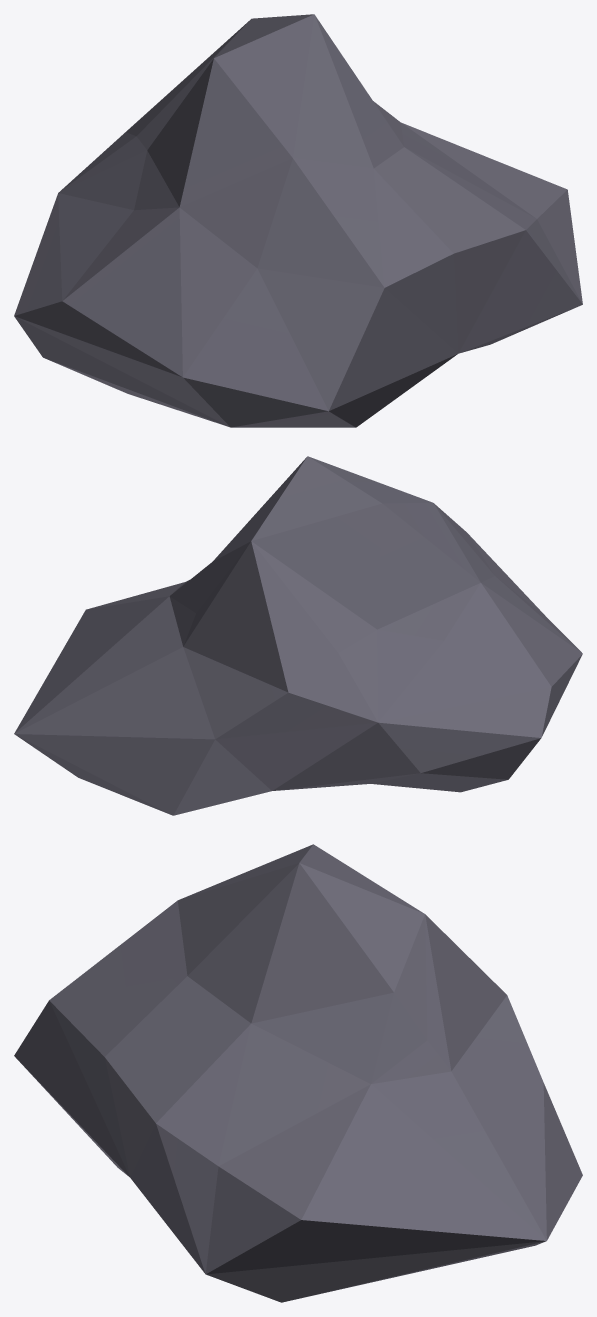
File: bigrock1.fbx
The picture shows the model from 3 angles, top to bottom: view 1: azimuth 30°, elevation 25°; view 2: azimuth 150°, elevation 25°; view 3: azimuth 270°, elevation 25°; orthographic projection. The views are drawn at different scales.
Visible parts, largest first — view 1: rock.005; view 2: rock.005; view 3: rock.005.
Part boxes in pixels (<box>): rock.005: <box>14,14,582,427</box>; rock.005: <box>14,456,582,815</box>; rock.005: <box>14,844,582,1302</box>.
Bounding box in the file's own units: 238 × 154 × 221.
